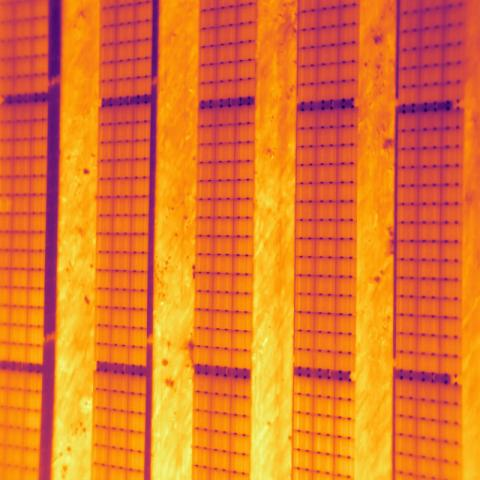fault: (0, 195, 12, 214)
